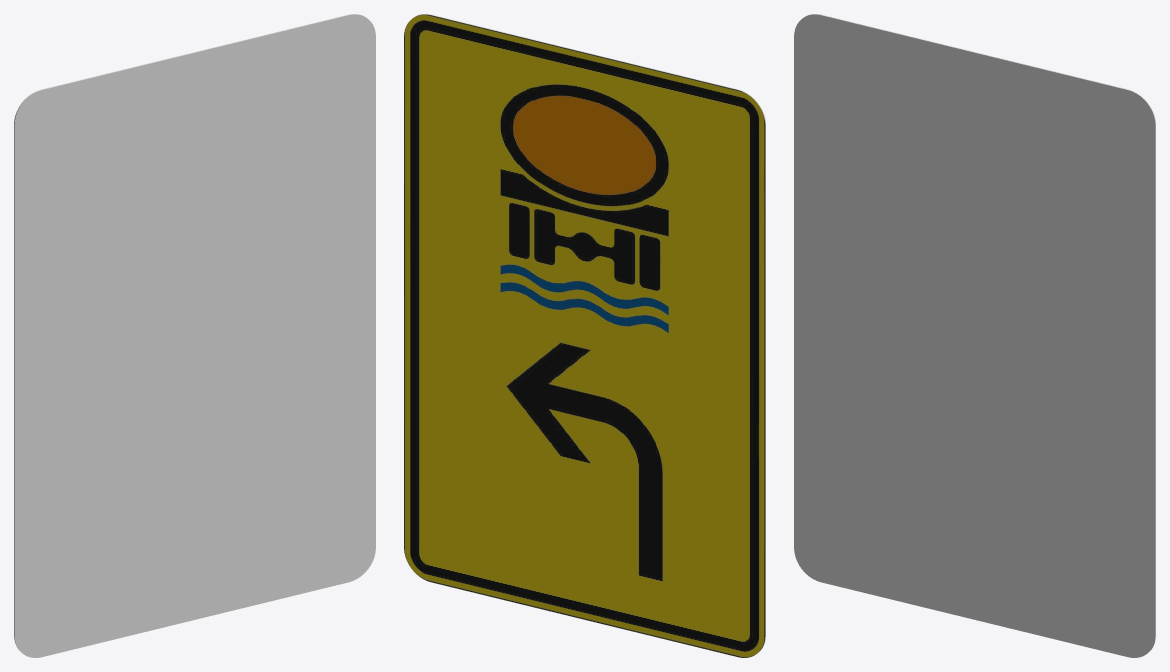
3 renders of one model, left to right at view 1: azimuth 30°, elevation 25°; view 2: azimuth 150°, elevation 25°; view 3: azimuth 330°, elevation 25°, orthographic.
Parts seen in each view (by area): view 1: Plane; view 2: Plane; view 3: Plane.
Boxes of the visible parts, box(x1,y1,x2,y2) form: Plane: box(14, 14, 375, 657); Plane: box(404, 14, 765, 657); Plane: box(794, 14, 1155, 657).
Size of the model in its own units: 0.6 by 0.9 by 0.002.
Materials: 2 (1 with a texture image).
